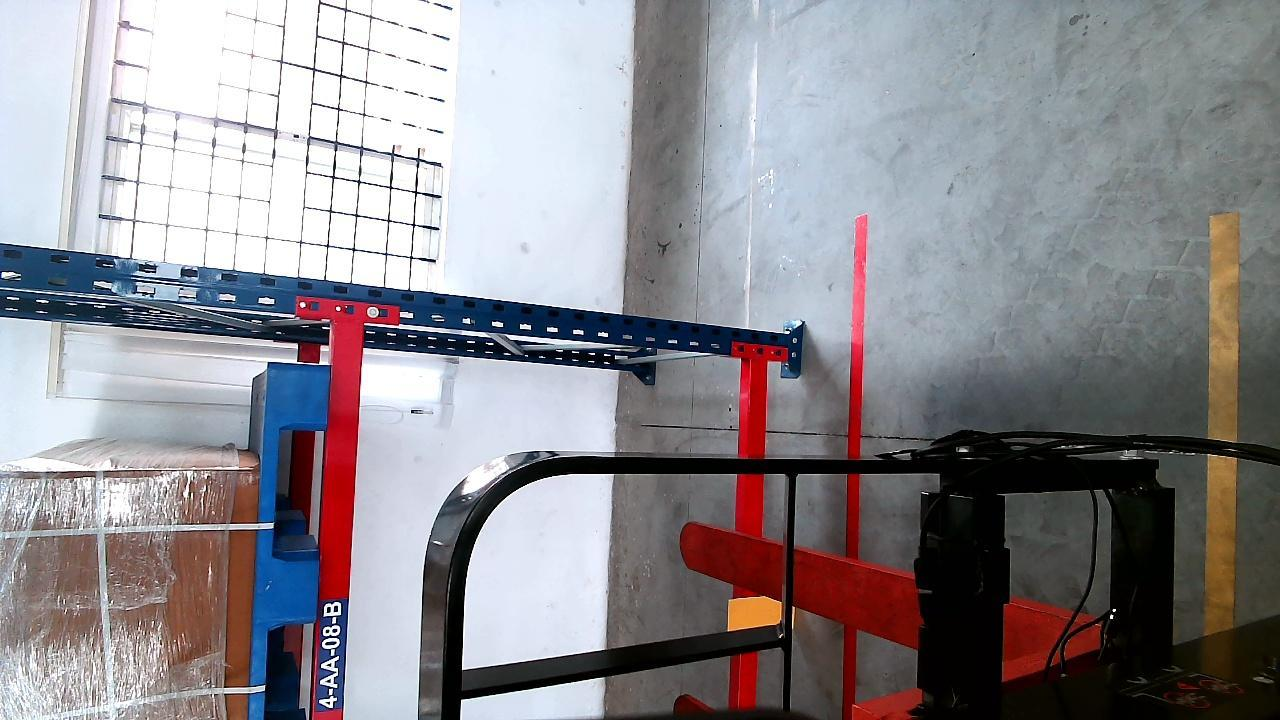red_line: (846, 214, 870, 553)
yellow_line: (1205, 205, 1238, 663)
